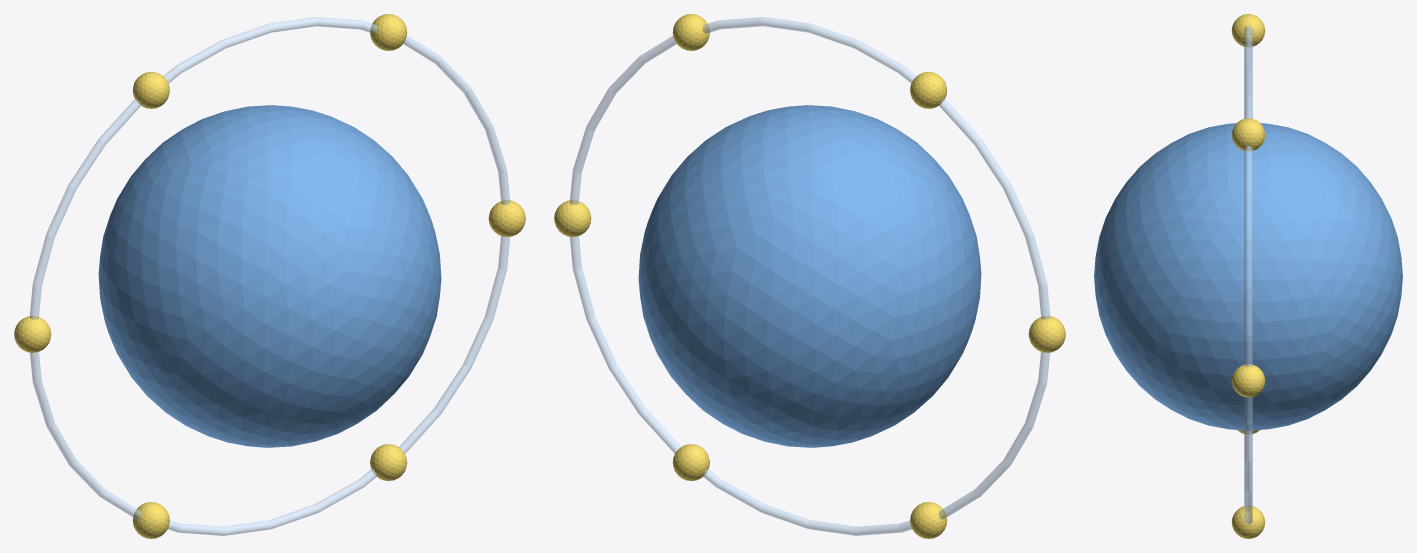
The model's file is O_minus2.glb.
3 views of the same model, side by side, from view 1: azimuth 30°, elevation 25°; view 2: azimuth 150°, elevation 25°; view 3: azimuth 270°, elevation 25° (orthographic). The views are drawn at different scales.
Parts seen in each view (by area): view 1: ion_core, electron_shell, electron_0, electron_2, electron_3, electron_5, electron_1, electron_4; view 2: ion_core, electron_shell, electron_0, electron_2, electron_3, electron_5, electron_1, electron_4; view 3: ion_core, electron_shell, electron_0, electron_1, electron_5, electron_2.
Boxes of the visible parts, box(x1,y1,x2,y2) form: ion_core: box(98, 105, 441, 447); electron_shell: box(29, 17, 510, 535); electron_0: box(488, 200, 525, 236); electron_2: box(132, 72, 169, 108); electron_3: box(14, 316, 51, 352); electron_5: box(370, 444, 407, 480); electron_1: box(370, 14, 407, 50); electron_4: box(132, 502, 169, 538); ion_core: box(638, 105, 981, 447); electron_shell: box(569, 17, 1050, 535); electron_0: box(554, 200, 591, 236); electron_2: box(910, 72, 947, 108); electron_3: box(1028, 316, 1065, 352); electron_5: box(672, 444, 709, 480); electron_1: box(672, 14, 709, 50); electron_4: box(910, 502, 947, 538); ion_core: box(1094, 123, 1402, 430); electron_shell: box(1244, 25, 1252, 524); electron_0: box(1231, 364, 1265, 397); electron_1: box(1231, 118, 1265, 151); electron_5: box(1231, 505, 1265, 538); electron_2: box(1231, 14, 1265, 47).
Size of the model in its own units: 3.14 by 2.99 by 1.84.
